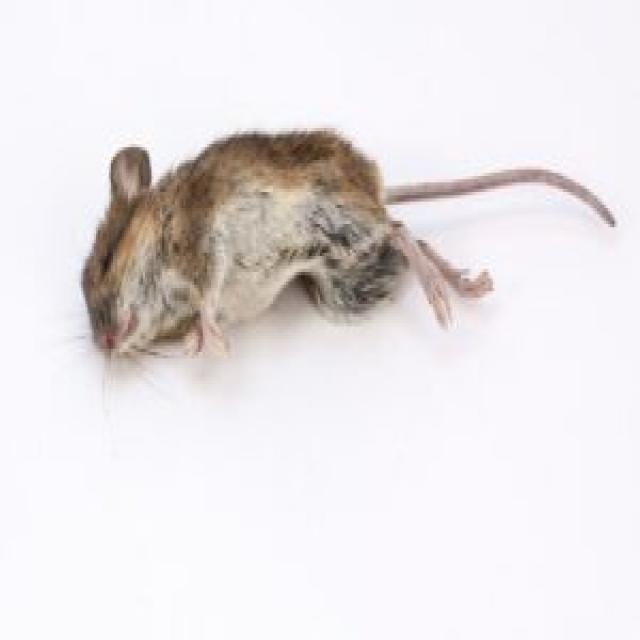rat: (57, 118, 628, 361)
